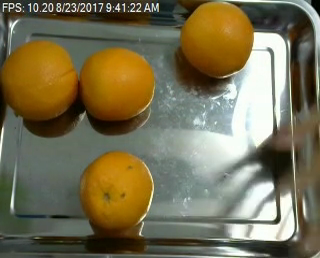Orange: (1, 41, 78, 120), (78, 150, 154, 229), (80, 45, 156, 120), (180, 1, 254, 78)
